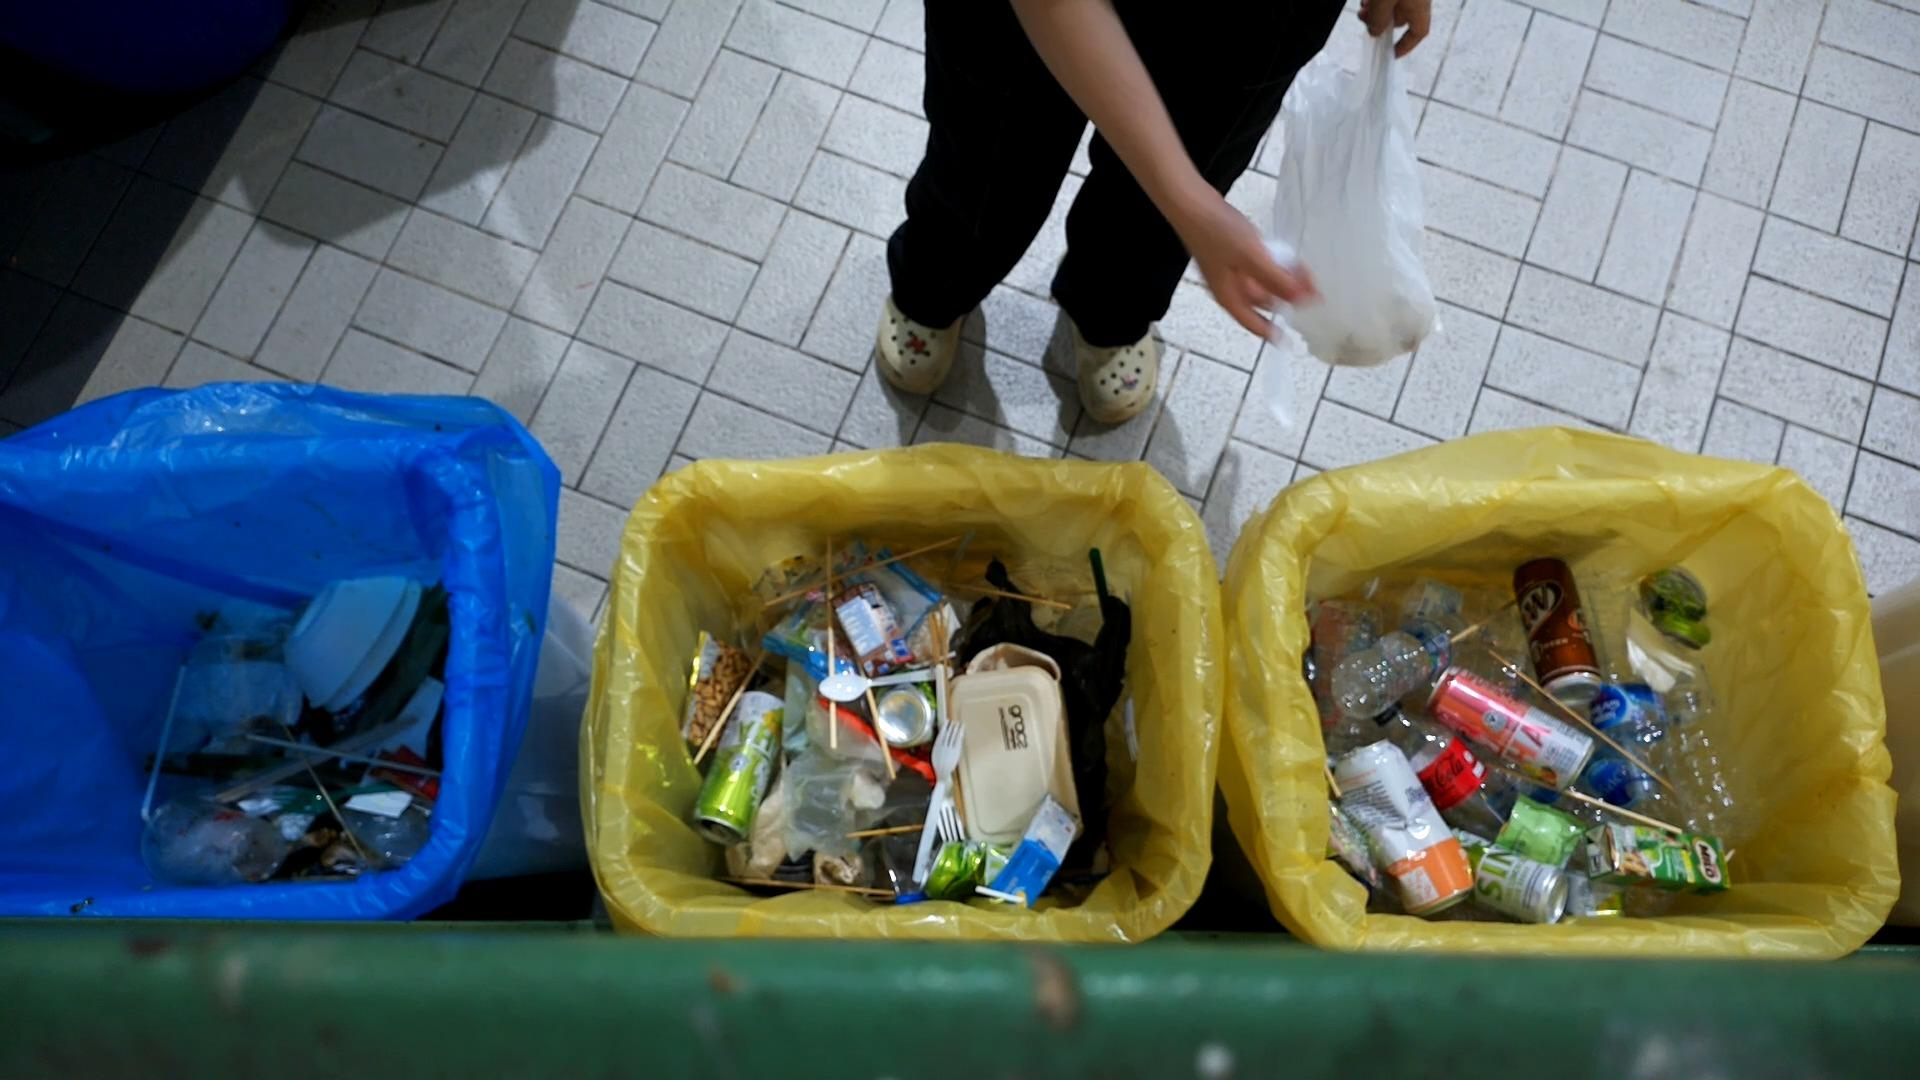can: (1329, 737, 1472, 914), (1432, 669, 1605, 793), (686, 684, 786, 847), (1510, 554, 1605, 709), (1444, 823, 1572, 922), (910, 835, 1021, 906), (885, 675, 961, 766), (1638, 564, 1720, 649)
filled plastic bag: (1262, 18, 1445, 372)
food container: (944, 657, 1076, 848), (280, 571, 426, 719)
milk carton: (1567, 806, 1733, 903), (977, 794, 1085, 909), (833, 574, 913, 682)
plastic bag: (777, 708, 864, 856), (1320, 798, 1390, 893)
plastic bottle: (1371, 699, 1513, 839), (1329, 611, 1481, 719), (1588, 658, 1679, 829), (1654, 669, 1739, 849)
plastic cutlery: (1250, 227, 1323, 439), (906, 715, 972, 884), (818, 662, 952, 712), (932, 661, 961, 844)
snack packaging: (675, 625, 761, 748), (368, 742, 439, 802)
sticks: (1484, 645, 1680, 793), (758, 534, 967, 611), (687, 641, 774, 769), (1565, 785, 1687, 837), (851, 651, 899, 782), (949, 578, 1075, 613), (818, 593, 844, 752), (840, 822, 931, 836)
straw: (131, 670, 204, 824)
tissue paper: (1623, 604, 1695, 694), (812, 848, 877, 898), (1029, 599, 1067, 634), (235, 795, 281, 820), (273, 814, 314, 841)
